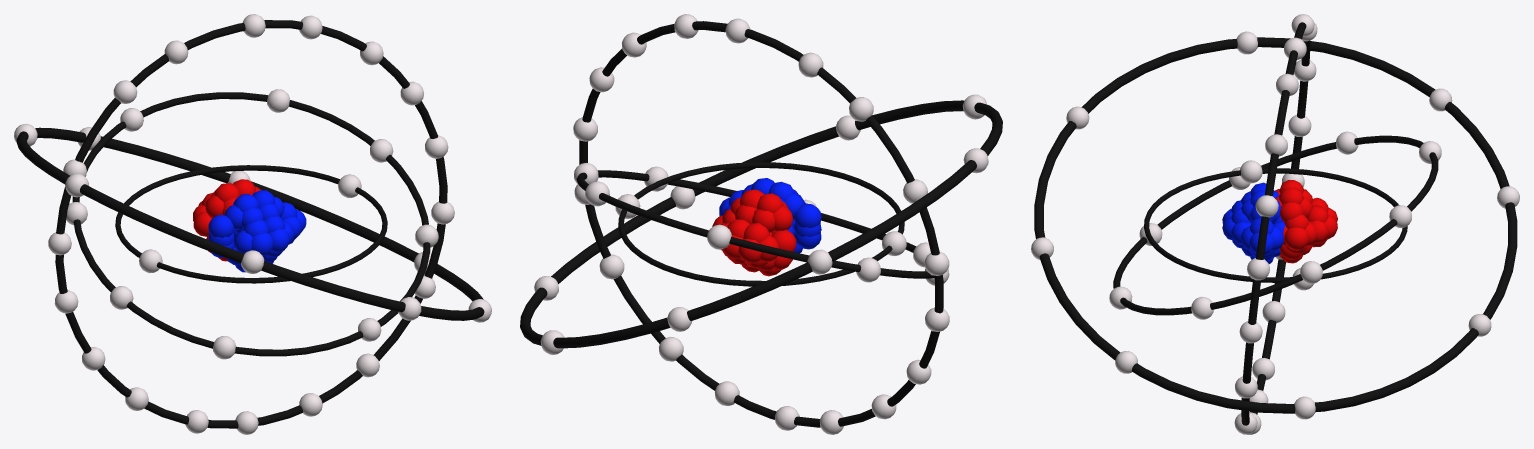
File: 36 Kripton.fbx
The picture shows the model from 3 angles, left to right: view 1: azimuth 30°, elevation 25°; view 2: azimuth 150°, elevation 25°; view 3: azimuth 270°, elevation 25°; orthographic projection. The views are drawn at different scales.
Parts seen in each view (by area): view 1: Orbita.004, Orbita.003, Sphere.001, Orbita.002, Orbita.001; view 2: Orbita.004, Orbita.003, Sphere.001, Orbita.002, Orbita.001, Electron.007, Electron.017, Electron.022, Electron.026, Electron.029, Electron.032, Electron.025 (+9 smaller); view 3: Orbita.004, Sphere.001, Orbita.002, Orbita.003, Orbita.001.
Boxes of the visible parts, x1,y1,x2,y2 form: Orbita.004: [16, 127, 484, 320]; Orbita.003: [55, 20, 447, 428]; Sphere.001: [193, 179, 306, 272]; Orbita.002: [72, 92, 430, 356]; Orbita.001: [115, 165, 387, 283]; Orbita.004: [520, 100, 1002, 348]; Orbita.003: [579, 21, 943, 427]; Sphere.001: [712, 178, 821, 276]; Orbita.002: [576, 170, 934, 278]; Orbita.001: [618, 162, 904, 286]; Electron.007: [707, 224, 731, 249]; Electron.017: [599, 254, 624, 279]; Electron.022: [658, 336, 683, 361]; Electron.026: [849, 97, 873, 121]; Electron.029: [798, 52, 823, 77]; Electron.032: [807, 249, 832, 274]; Electron.025: [924, 252, 949, 275]; Orbita.004: [1034, 37, 1517, 413]; Sphere.001: [1222, 180, 1337, 264]; Orbita.002: [1113, 135, 1438, 315]; Orbita.003: [1241, 22, 1310, 425]; Orbita.001: [1144, 168, 1407, 282].
Size of the model in its own units: 14.34 by 13.1 by 12.47.
